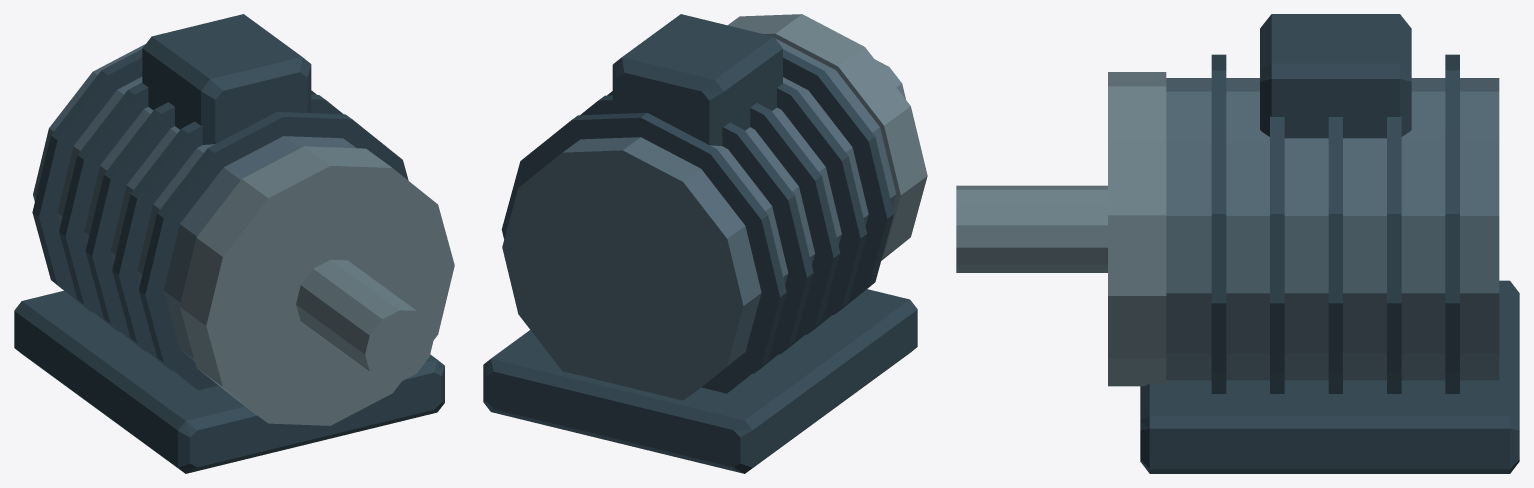
Rendered from 17_MotorHousing.obj.
3 views of the same model, side by side, from view 1: azimuth 30°, elevation 25°; view 2: azimuth 150°, elevation 25°; view 3: azimuth 270°, elevation 25° (orthographic). The views are drawn at different scales.
Size of the model in its own units: 0.6 by 0.695 by 0.965.
